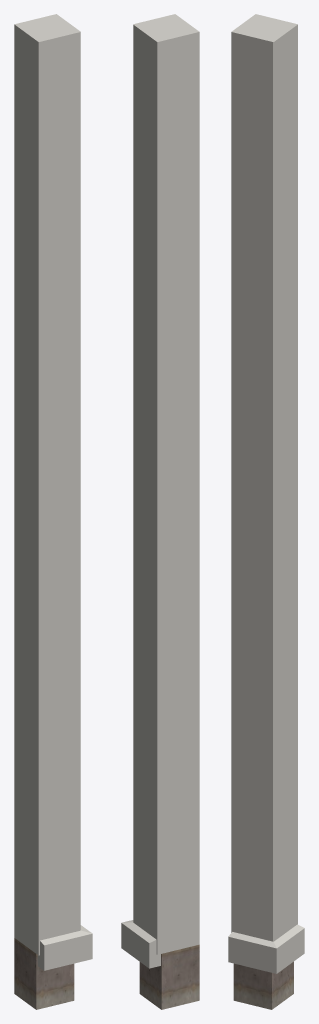
Rendered from corner_tall.glb.
3 renders of one model, left to right at view 1: azimuth 30°, elevation 25°; view 2: azimuth 210°, elevation 25°; view 3: azimuth 330°, elevation 25°, orthographic.
Visible parts, largest first — view 1: corner_tall_trim, corner_tall_stone; view 2: corner_tall_trim, corner_tall_stone; view 3: corner_tall_trim, corner_tall_stone.
Part boxes in pixels (x1,y1,x2,y2): corner_tall_trim: (14, 14, 92, 970); corner_tall_stone: (14, 938, 74, 1009); corner_tall_trim: (121, 14, 199, 968); corner_tall_stone: (139, 944, 199, 1009); corner_tall_trim: (228, 14, 304, 973); corner_tall_stone: (233, 961, 293, 1009).
Size of the model in its own units: 0.417 by 7.77 by 0.417.
Materials: 2 (1 with a texture image).
